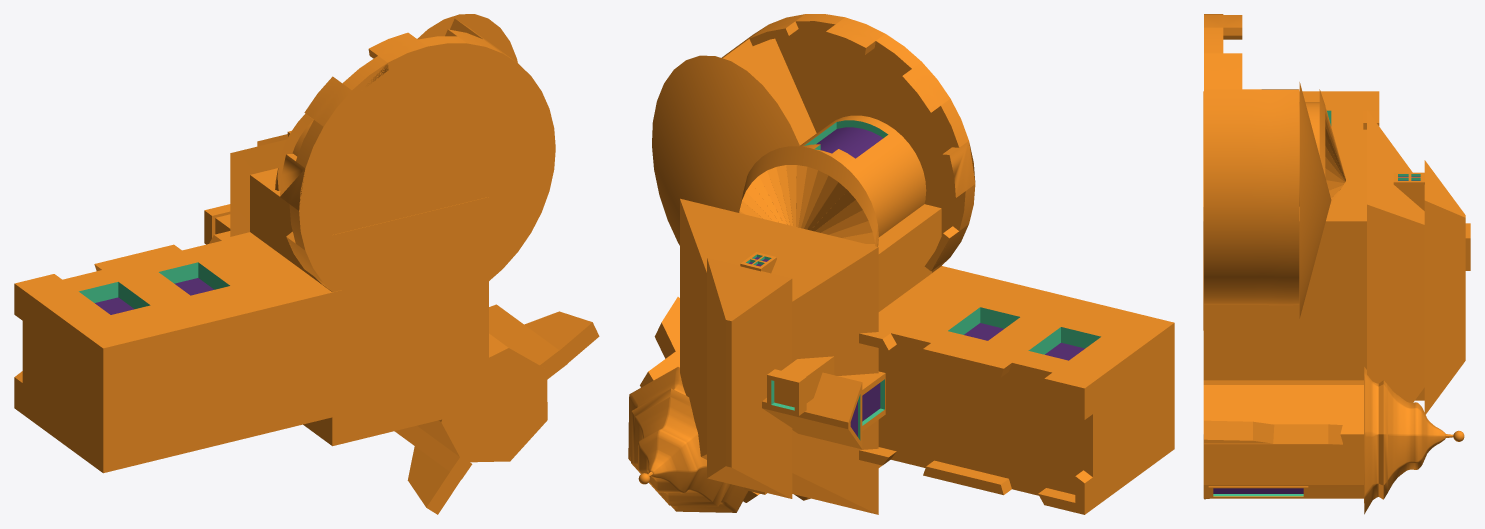
Rendered from drukarnia trebinskich.fbx.
The picture shows the model from 3 angles, left to right: view 1: azimuth 30°, elevation 25°; view 2: azimuth 150°, elevation 25°; view 3: azimuth 270°, elevation 25°; orthographic projection. The views are drawn at different scales.
Visible parts, largest first — view 1: duzy_dom_Cube_001; view 2: duzy_dom_Cube_001; view 3: duzy_dom_Cube_001.
Boxes of the visible parts, x1,y1,x2,y2 form: duzy_dom_Cube_001: (14, 14, 599, 514); duzy_dom_Cube_001: (628, 14, 1174, 514); duzy_dom_Cube_001: (1203, 14, 1470, 514).
Bounding box in the file's own units: 39.07 × 35.39 × 18.36.
Materials: 1 (1 with a texture image).
